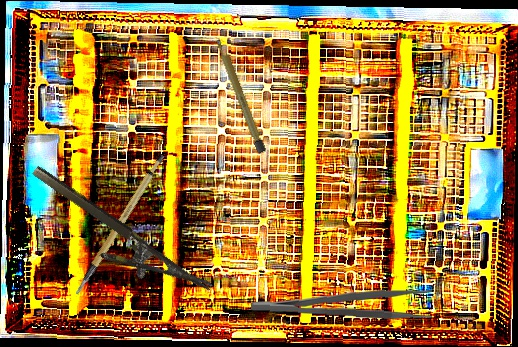Dressing Forceps: (250, 282, 433, 322)
Needle Holder: (15, 163, 214, 319)
Scalpel Handle: (54, 151, 182, 296), (214, 36, 267, 155)
